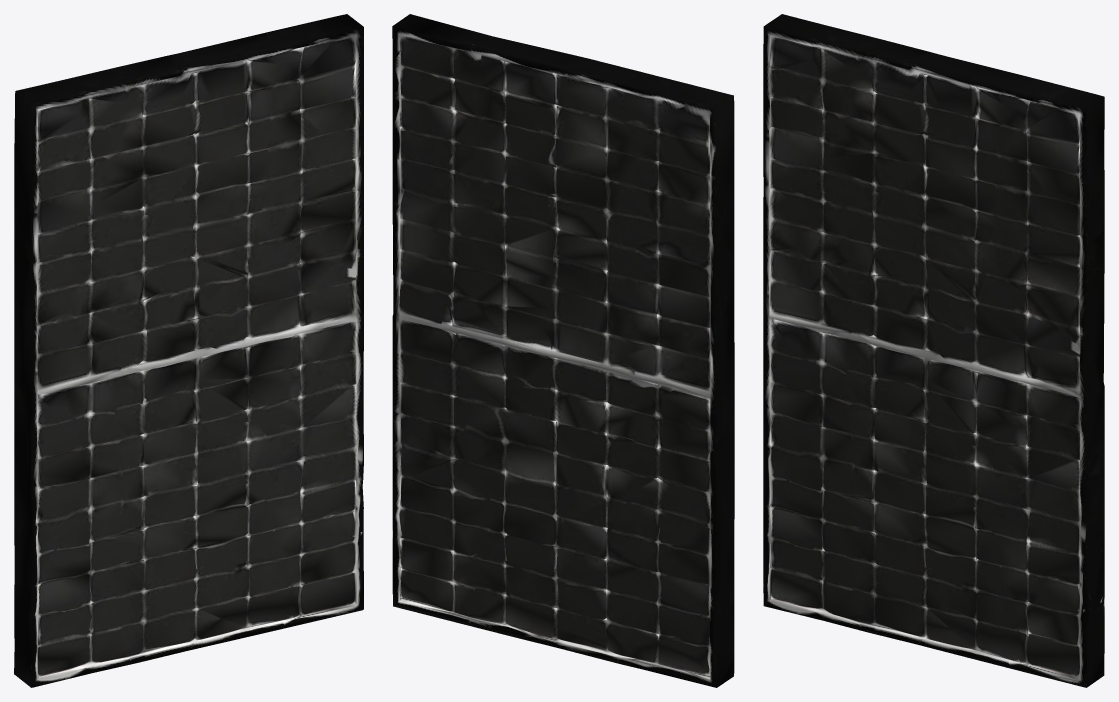
File: emcar-jinko-475-phone.glb
The picture shows the model from 3 angles, left to right: view 1: azimuth 30°, elevation 25°; view 2: azimuth 150°, elevation 25°; view 3: azimuth 330°, elevation 25°; orthographic projection.
Visible parts, largest first — view 1: tripo_node_d8d0ccad-05c6-47a1-8134-f657ca396821; view 2: tripo_node_d8d0ccad-05c6-47a1-8134-f657ca396821; view 3: tripo_node_d8d0ccad-05c6-47a1-8134-f657ca396821.
Part boxes in pixels (x1,y1,x2,y2): tripo_node_d8d0ccad-05c6-47a1-8134-f657ca396821: (14,14,363,687); tripo_node_d8d0ccad-05c6-47a1-8134-f657ca396821: (392,14,734,687); tripo_node_d8d0ccad-05c6-47a1-8134-f657ca396821: (763,14,1104,687).
Size of the model in its own units: 0.5917 by 0.9999 by 0.0664.
Materials: 1 (1 with a texture image).
